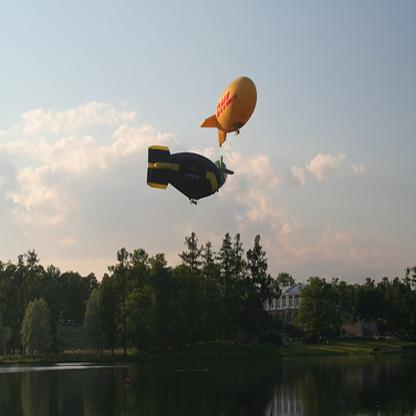Airship: (143, 143, 233, 212), (196, 75, 266, 147)
